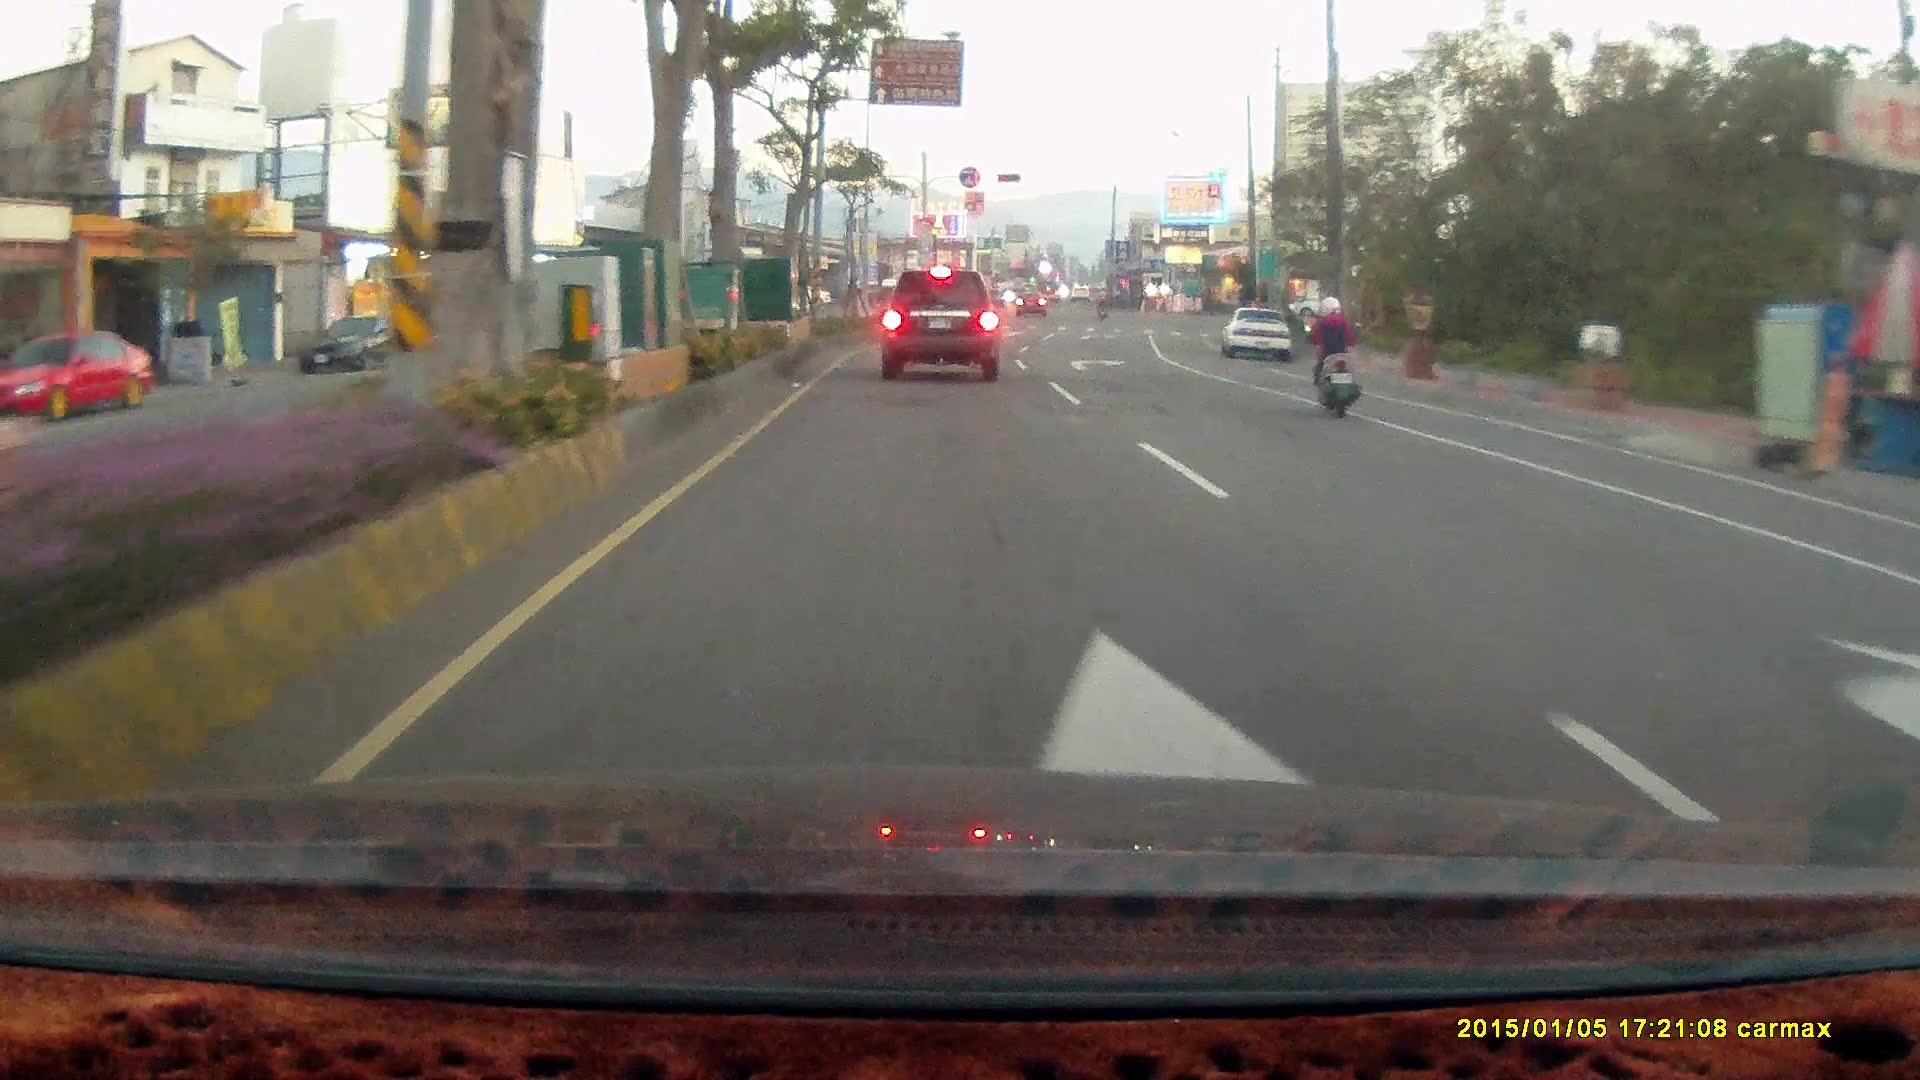rider: (1302, 294, 1361, 420)
vehicle: (880, 265, 999, 382), (1, 334, 155, 423), (1896, 493, 1920, 836), (1883, 528, 1920, 690), (1220, 305, 1291, 363), (1225, 308, 1296, 362), (1288, 282, 1360, 319)
